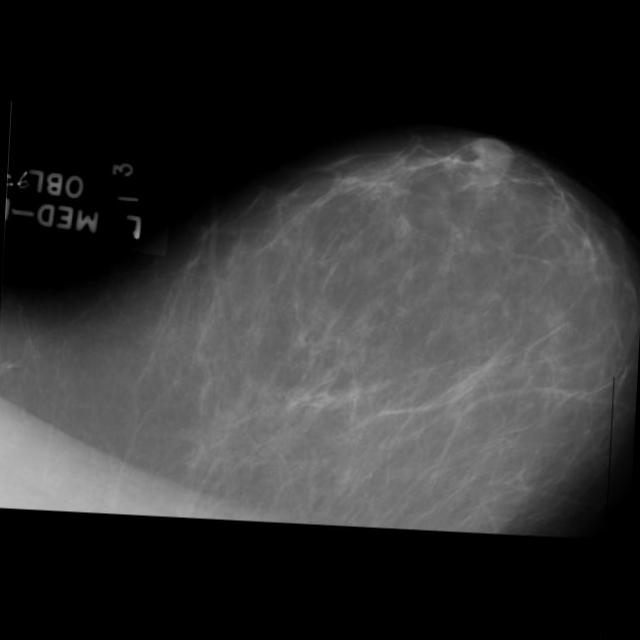CALC: (272, 346, 330, 404)
